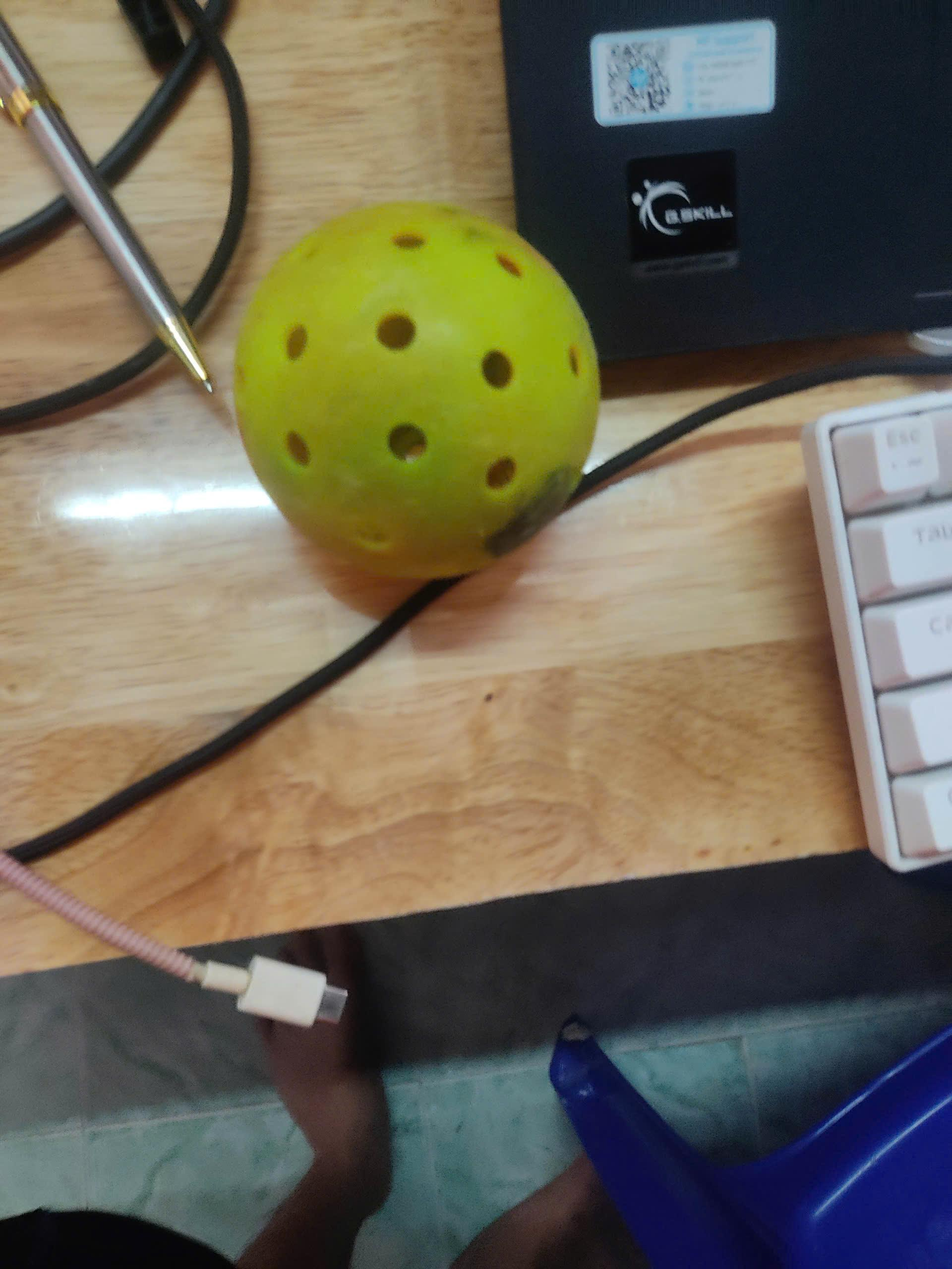ball: (228, 187, 611, 580)
